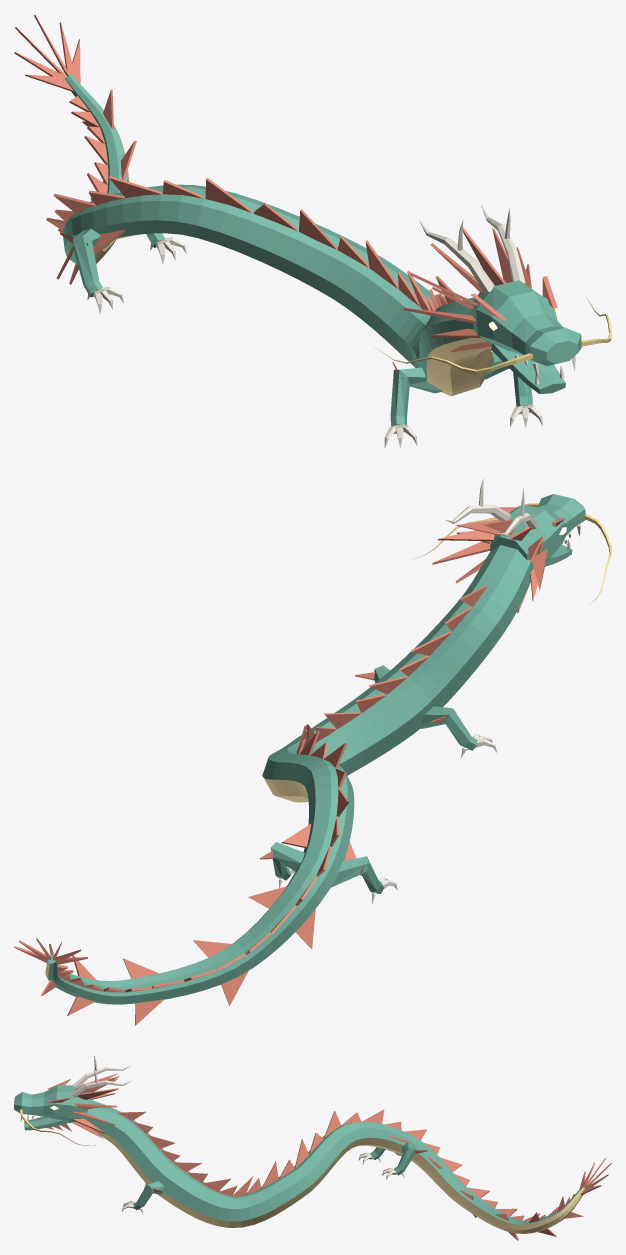
Rendered from Dragon_Long_v1.glb.
3 views of the same model, one above another, from view 1: azimuth 30°, elevation 25°; view 2: azimuth 150°, elevation 25°; view 3: azimuth 270°, elevation 25° (orthographic). The views are drawn at different scales.
Parts seen in each view (by area): view 1: Body, Fins, Horns, Belly, Whiskers; view 2: Body, Fins, Horns, Belly; view 3: Body, Fins, Belly, Horns.
Part boxes in pixels (x1,y1,x2,y2): Body: (63, 74, 581, 426); Fins: (14, 15, 557, 379); Horns: (87, 205, 575, 447); Belly: (94, 125, 494, 396); Whiskers: (375, 295, 611, 373); Body: (47, 494, 585, 1004); Fins: (14, 507, 564, 1025); Horns: (278, 478, 580, 904); Belly: (45, 777, 308, 980); Body: (14, 1085, 582, 1224); Fins: (47, 1073, 611, 1240); Belly: (29, 1124, 584, 1233); Horns: (20, 1055, 404, 1214).
Bounding box in the file's own units: 14.29 × 18.53 × 57.08.
